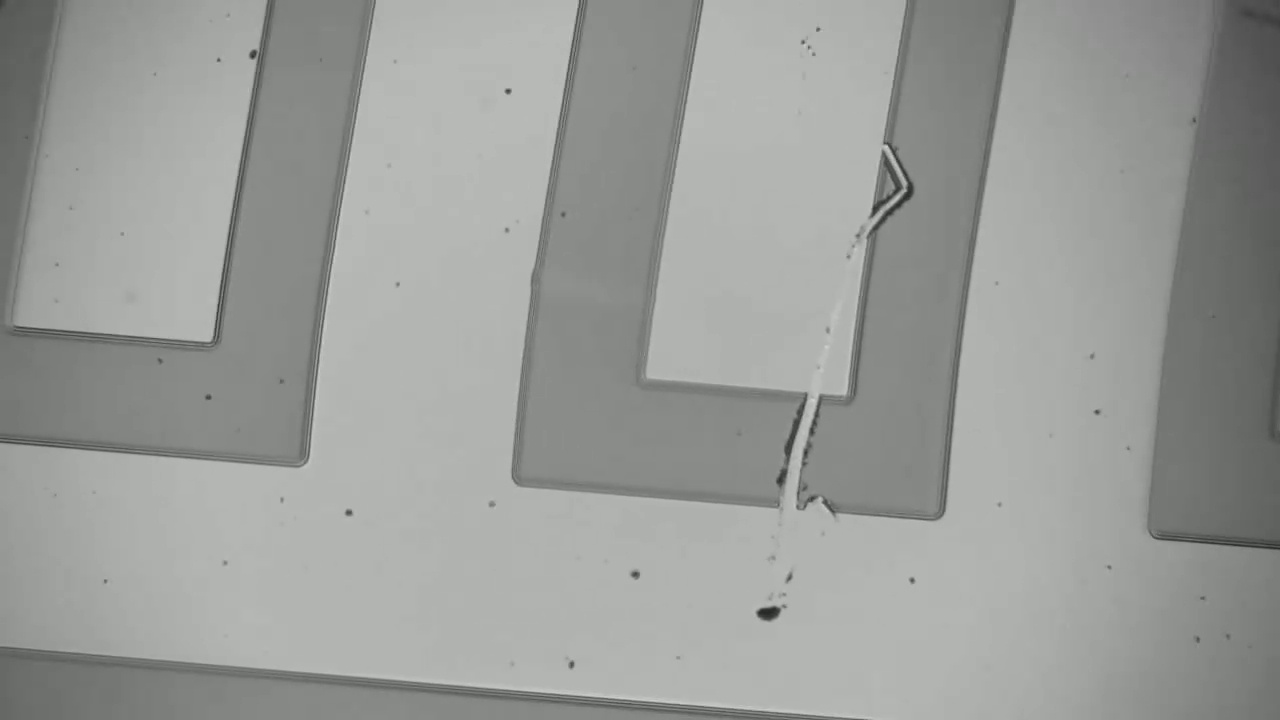Short_circuit: (752, 380, 836, 530)
